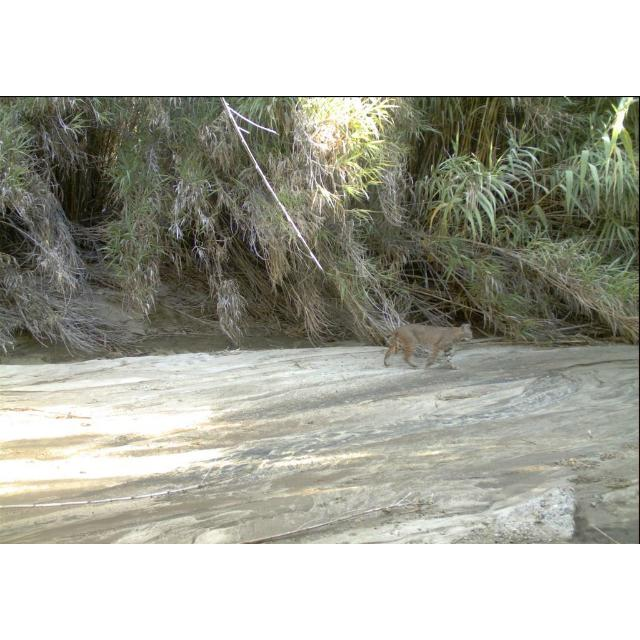animals: (373, 316, 475, 374)
